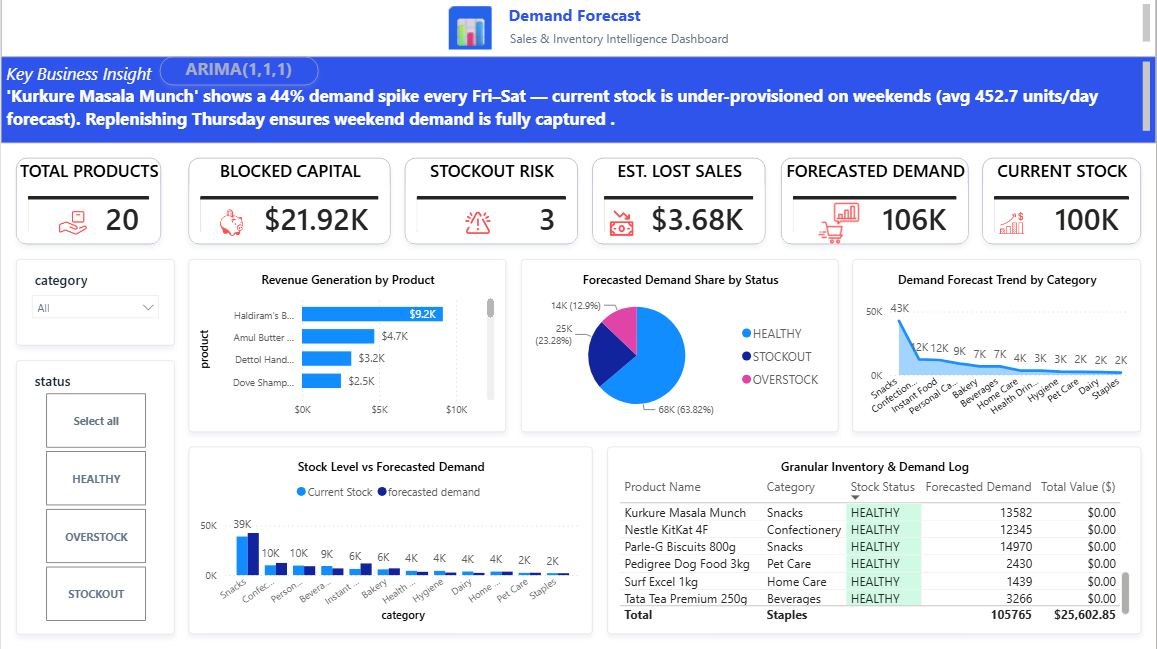

The page's visual inventory and layout, read from the dashboard file:
{"tool":"powerbi","page":{"name":"Page 1","canvas":[1280,720],"ordinal":0},"visuals":[{"type":"cardVisual","title":"TOTAL PRODUCTS","fields":{"Data":["CountNonNull(stocksense_inventory.product)"]},"box":[16,176,161,96],"z":0},{"type":"cardVisual","title":"BLOCKED CAPITAL","fields":{"Data":["Sum(stocksense_inventory.value_usd)"]},"box":[208,176,224,96],"z":1000},{"type":"cardVisual","title":"STOCKOUT RISK","fields":{"Data":["CountNonNull(stocksense_inventory.product)"]},"box":[448,176,192,96],"z":2000},{"type":"cardVisual","title":"EST. LOST SALES","fields":{"Data":["Sum(stocksense_inventory.value_usd)"]},"box":[656,176,192,96],"z":3000},{"type":"clusteredBarChart","title":"Revenue Generation by Product","fields":{"Category":["stocksense_inventory.product"],"Y":["Sum(stocksense_inventory.value_usd)"]},"box":[208,288,352,192],"z":4000},{"type":"clusteredColumnChart","title":"Stock Level vs Forecasted Demand","fields":{"Category":["stocksense_inventory.category"],"Y":["Sum(stocksense_inventory.Current Stock)","Sum(stocksense_inventory.forecasted_demand)"]},"box":[208,496,448,208],"z":5000},{"type":"tableEx","title":"Granular Inventory & Demand Log","fields":{"Values":["stocksense_inventory.product","stocksense_inventory.category","stocksense_inventory.status","Sum(stocksense_inventory.forecasted_demand)","Sum(stocksense_inventory.value_usd)"]},"box":[672,496,592,208],"z":6000},{"type":"slicer","fields":{"Values":["stocksense_inventory.category"]},"box":[16,288,176,96],"z":7000},{"type":"textbox","box":[0,64,1280,96],"z":8000},{"type":"textbox","box":[0,0,1280,64],"z":9000},{"type":"image","box":[496,0,48,64],"z":10000},{"type":"textbox","box":[176,64,176,32],"z":11000},{"type":"cardVisual","title":"FORECASTED DEMAND","fields":{"Data":["Sum(stocksense_inventory.forecasted_demand)"]},"box":[864,176,208,96],"z":12000},{"type":"cardVisual","title":"CURRENT STOCK","fields":{"Data":["Sum(stocksense_inventory.current_stock)"]},"box":[1088,176,176,96],"z":13000},{"type":"pieChart","title":"Forecasted Demand Share by Status","fields":{"Category":["stocksense_inventory.status"],"Y":["Sum(stocksense_inventory.forecasted_demand)"]},"box":[576,288,352,192],"z":14000},{"type":"areaChart","title":"Demand Forecast Trend by Category","fields":{"Category":["stocksense_inventory.category"],"Y":["Sum(stocksense_inventory.forecasted_demand)"]},"box":[944,288,320,192],"z":15000},{"type":"slicer","fields":{"Values":["stocksense_inventory.status"]},"box":[16,400,176,304],"z":16000},{"type":"image","box":[64,224,32,48],"z":17000},{"type":"image","box":[240,224,32,48],"z":18000},{"type":"image","box":[512,224,32,48],"z":19000},{"type":"image","box":[864,224,128,48],"z":20000},{"type":"image","box":[672,224,32,48],"z":21000},{"type":"image","box":[1104,224,32,48],"z":22000}]}

Visuals, with their boxes in screenshot pixels (x1, y1, x2, y2), scaled from the page's 1280x720 canvas onto the 1157x649 screenshot:
"TOTAL PRODUCTS" cardVisual: locate(14, 159, 160, 245)
"BLOCKED CAPITAL" cardVisual: locate(188, 159, 390, 245)
"STOCKOUT RISK" cardVisual: locate(405, 159, 578, 245)
"EST. LOST SALES" cardVisual: locate(593, 159, 767, 245)
"Revenue Generation by Product" clusteredBarChart: locate(188, 260, 506, 433)
"Stock Level vs Forecasted Demand" clusteredColumnChart: locate(188, 447, 593, 635)
"Granular Inventory & Demand Log" tableEx: locate(607, 447, 1143, 635)
slicer - stocksense_inventory.category: locate(14, 260, 174, 346)
textbox: locate(0, 58, 1156, 144)
textbox: locate(0, 0, 1156, 58)
image: locate(448, 0, 492, 58)
textbox: locate(159, 58, 318, 87)
"FORECASTED DEMAND" cardVisual: locate(781, 159, 969, 245)
"CURRENT STOCK" cardVisual: locate(983, 159, 1143, 245)
"Forecasted Demand Share by Status" pieChart: locate(521, 260, 839, 433)
"Demand Forecast Trend by Category" areaChart: locate(853, 260, 1143, 433)
slicer - stocksense_inventory.status: locate(14, 361, 174, 635)
image: locate(58, 202, 87, 245)
image: locate(217, 202, 246, 245)
image: locate(463, 202, 492, 245)
image: locate(781, 202, 897, 245)
image: locate(607, 202, 636, 245)
image: locate(998, 202, 1027, 245)
